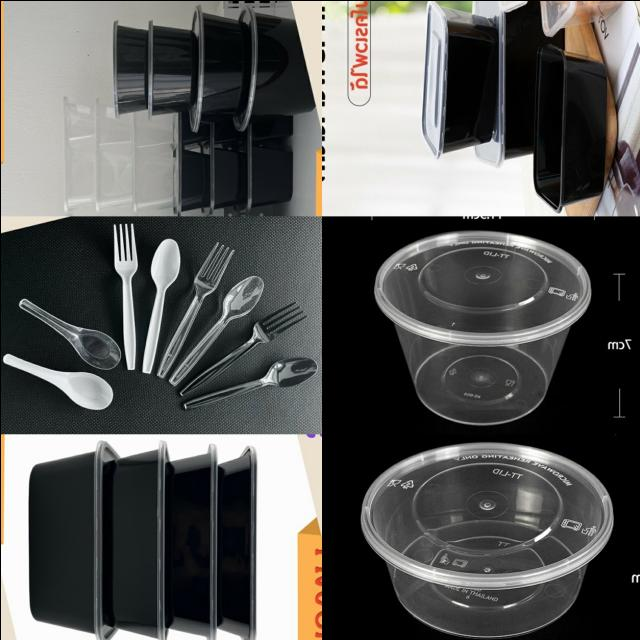plastik: (360, 442, 612, 637), (373, 230, 590, 424), (28, 441, 118, 640), (533, 42, 606, 211), (422, 0, 497, 157), (179, 301, 305, 394), (111, 441, 168, 640), (156, 241, 233, 377), (169, 275, 263, 384), (233, 6, 314, 130), (500, 0, 563, 156), (170, 443, 216, 640), (217, 446, 256, 640), (18, 298, 120, 369), (183, 356, 317, 409), (188, 6, 243, 130), (3, 354, 113, 409), (142, 238, 179, 373), (147, 20, 196, 113), (113, 223, 137, 369), (113, 20, 147, 114)
